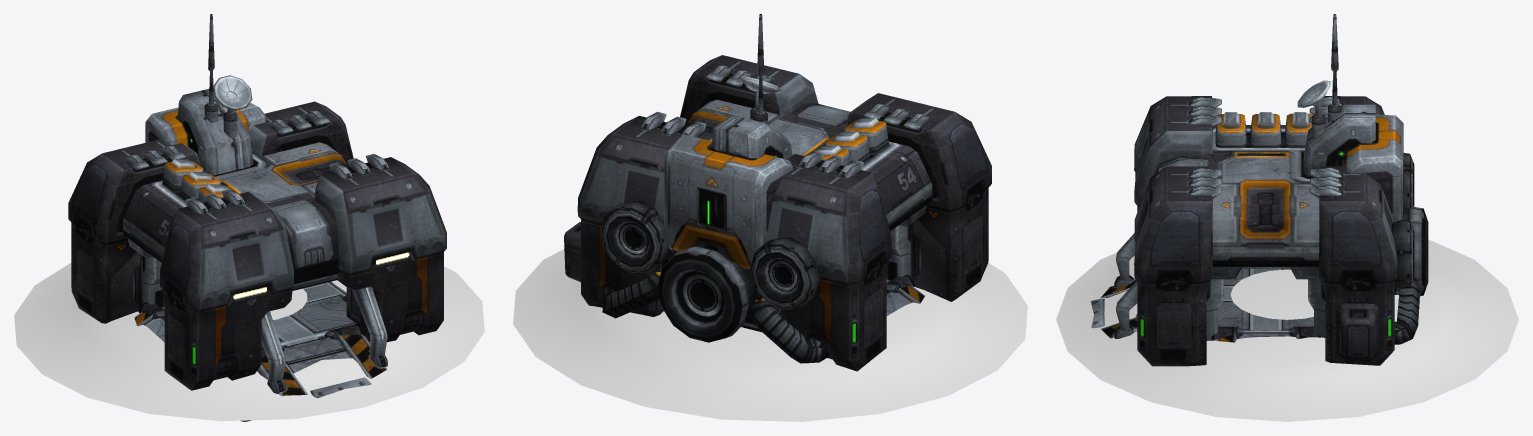
The model's file is FactoryEx1.glb.
3 renders of one model, left to right at view 1: azimuth 30°, elevation 25°; view 2: azimuth 150°, elevation 25°; view 3: azimuth 270°, elevation 25°, orthographic. The views are drawn at different scales.
Visible parts, largest first — view 1: Mesh, Sphere01distortion02; view 2: Mesh, Sphere01distortion02; view 3: Mesh, Sphere01distortion02.
Boxes of the visible parts, x1,y1,x2,y2 form: Mesh: [68, 14, 446, 421]; Sphere01distortion02: [14, 263, 484, 421]; Mesh: [564, 14, 991, 371]; Sphere01distortion02: [513, 249, 1027, 421]; Mesh: [1091, 14, 1428, 366]; Sphere01distortion02: [1056, 239, 1518, 421].
Size of the model in its own units: 5.36 by 3.93 by 5.13.
Materials: 2 (1 with a texture image).
